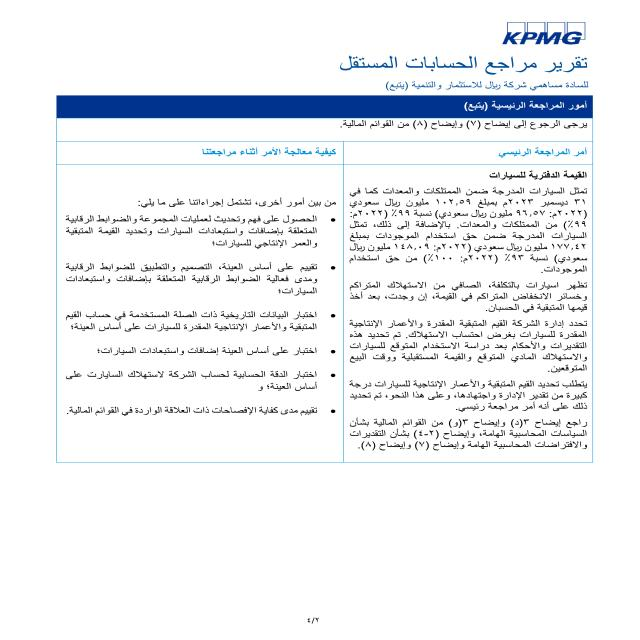auditor_report: (330, 52, 591, 76)
